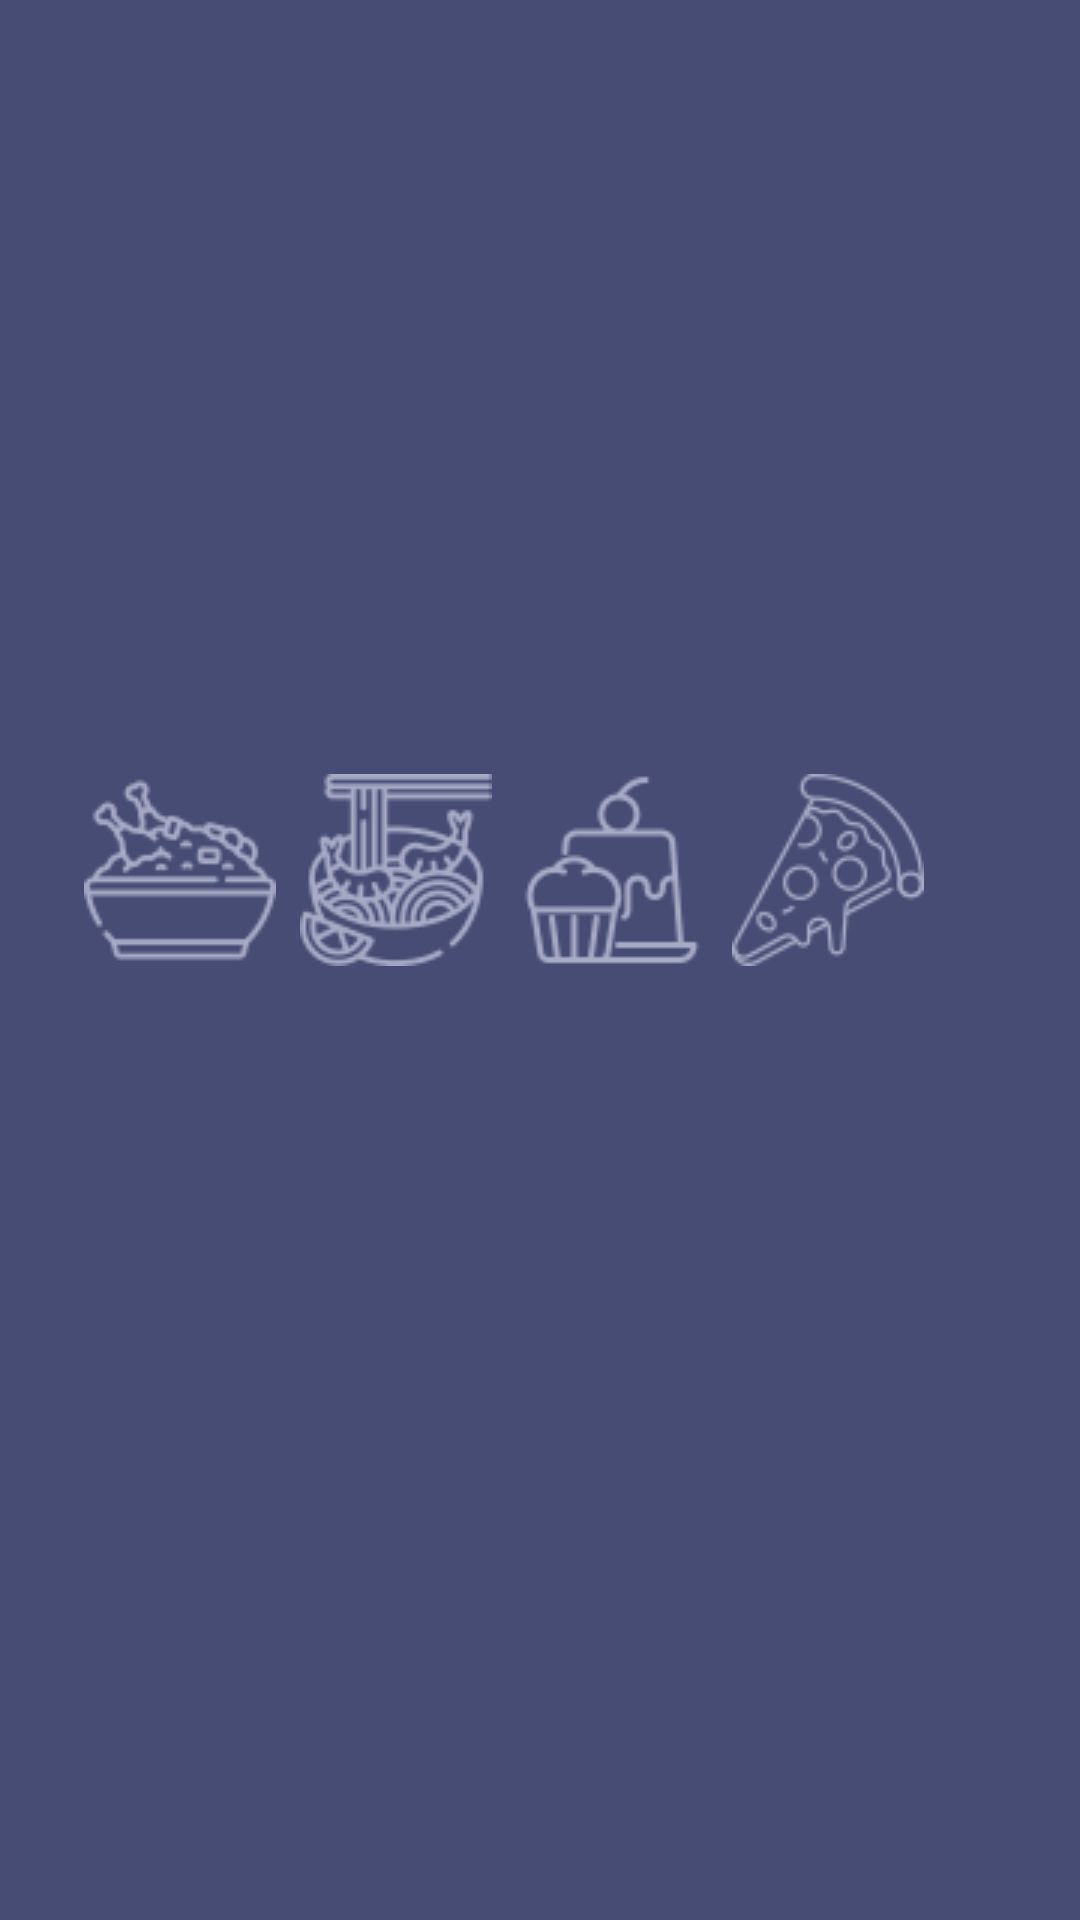

Point at icon controls on the screen. Image size 1080 × 1920, points as (x=x, y=y).
biryani: (x=180, y=870)
dessert: (x=612, y=870)
pizza: (x=828, y=870)
thai: (x=396, y=870)
